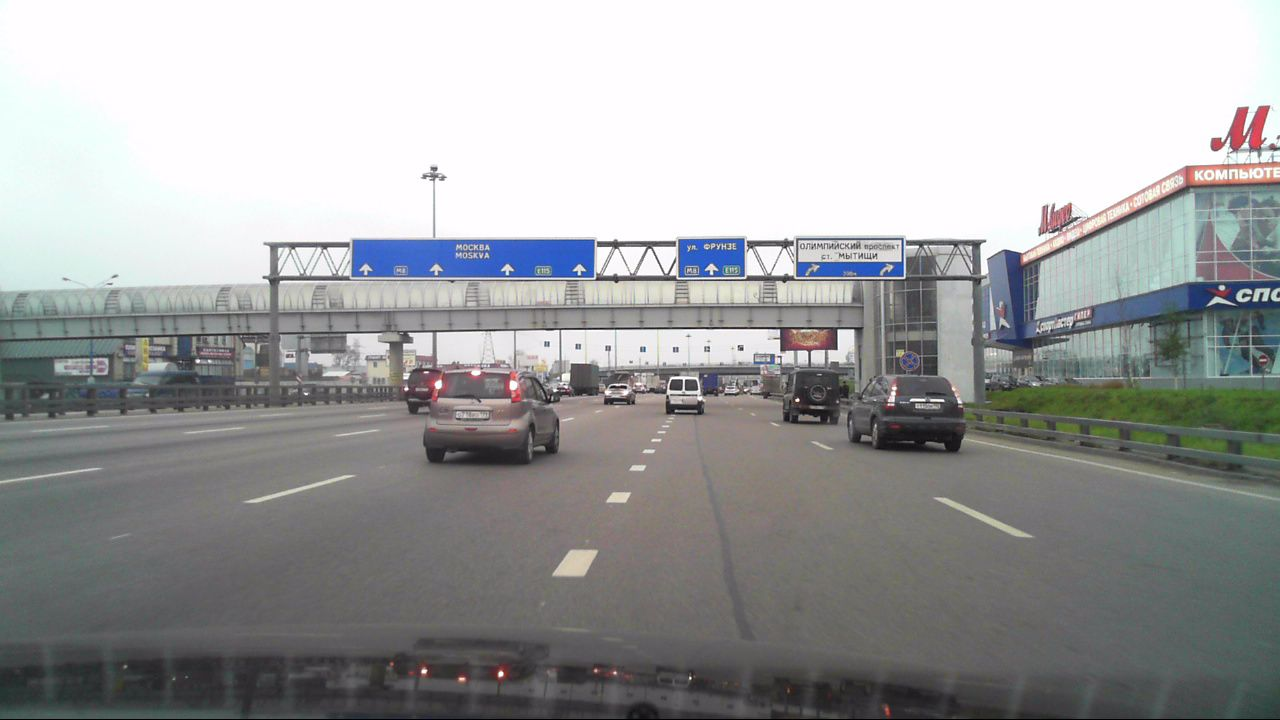No Parking: (898, 351, 919, 370)
